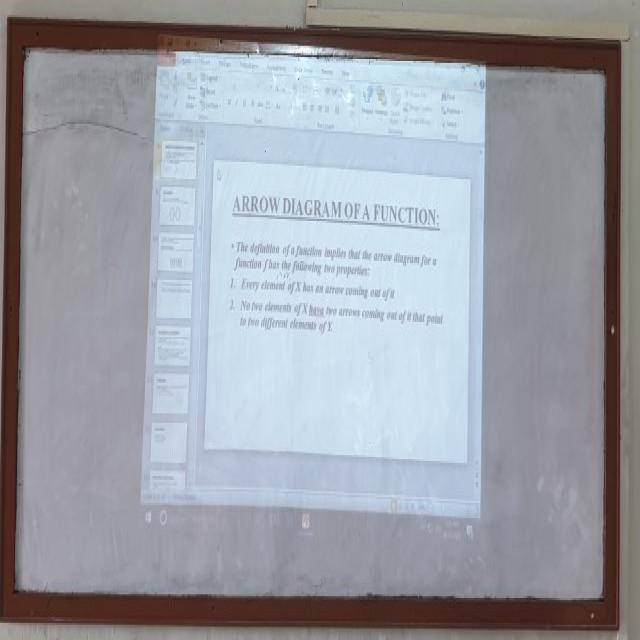Slide: (138, 35, 487, 545)
White-board: (9, 38, 613, 614)
